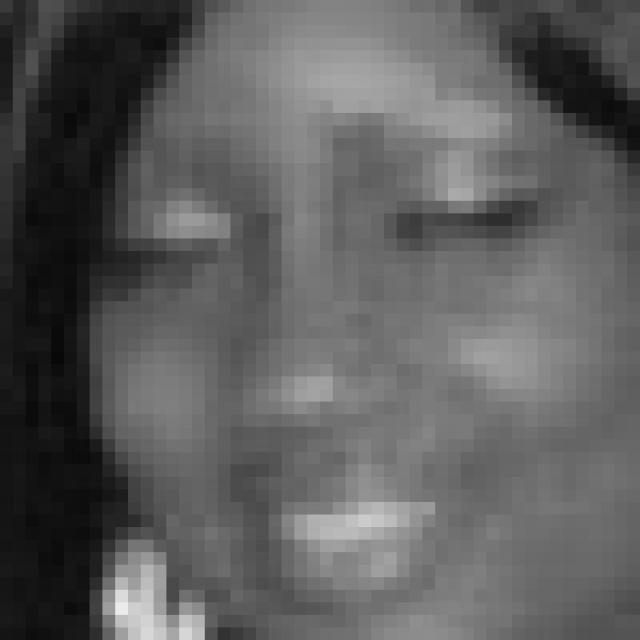real: (98, 0, 620, 612), (110, 184, 578, 303)
